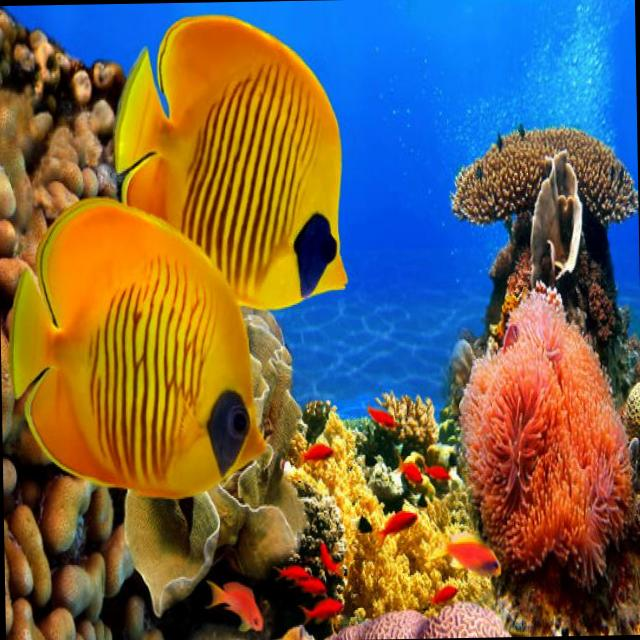ButterflyFish: (11, 195, 268, 500), (112, 12, 348, 309)
